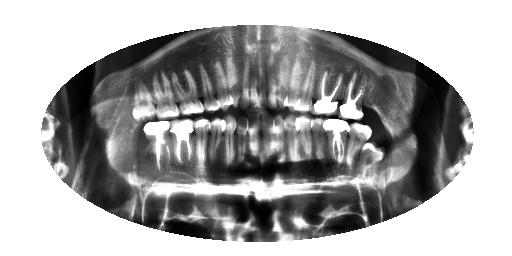i10decay: (233, 111, 249, 168)
i11healthy: (221, 111, 240, 172)
i12healthy: (207, 113, 227, 169)
i13healthy: (191, 112, 214, 172)
i14healthy: (168, 113, 197, 171)
i15healthy: (140, 119, 175, 179)
i16loss: (118, 126, 156, 172)
i1healthy: (355, 137, 387, 175)
i2healthy: (344, 115, 375, 173)
i3healthy: (321, 115, 352, 173)
i4healthy: (308, 114, 330, 164)
i5healthy: (293, 113, 316, 162)
i6decay: (281, 110, 304, 167)
i7decay: (270, 111, 289, 163)
i8decay: (259, 109, 274, 166)
i9decay: (245, 105, 265, 162)
u10healthy: (236, 54, 253, 111)
u11decay: (223, 53, 242, 110)
u12healthy: (212, 56, 235, 118)
u13healthy: (195, 57, 224, 119)
u14healthy: (170, 66, 204, 117)
u15healthy: (149, 66, 182, 123)
u16healthy: (130, 73, 157, 121)
u1loss: (362, 79, 387, 130)
u2healthy: (337, 64, 369, 126)
u3healthy: (306, 61, 345, 120)
u4healthy: (291, 53, 317, 115)
u5healthy: (280, 55, 303, 113)
u6decay: (274, 55, 292, 111)
u7decay: (266, 53, 279, 111)
u8healthy: (255, 56, 269, 112)
u9healthy: (248, 53, 260, 109)
